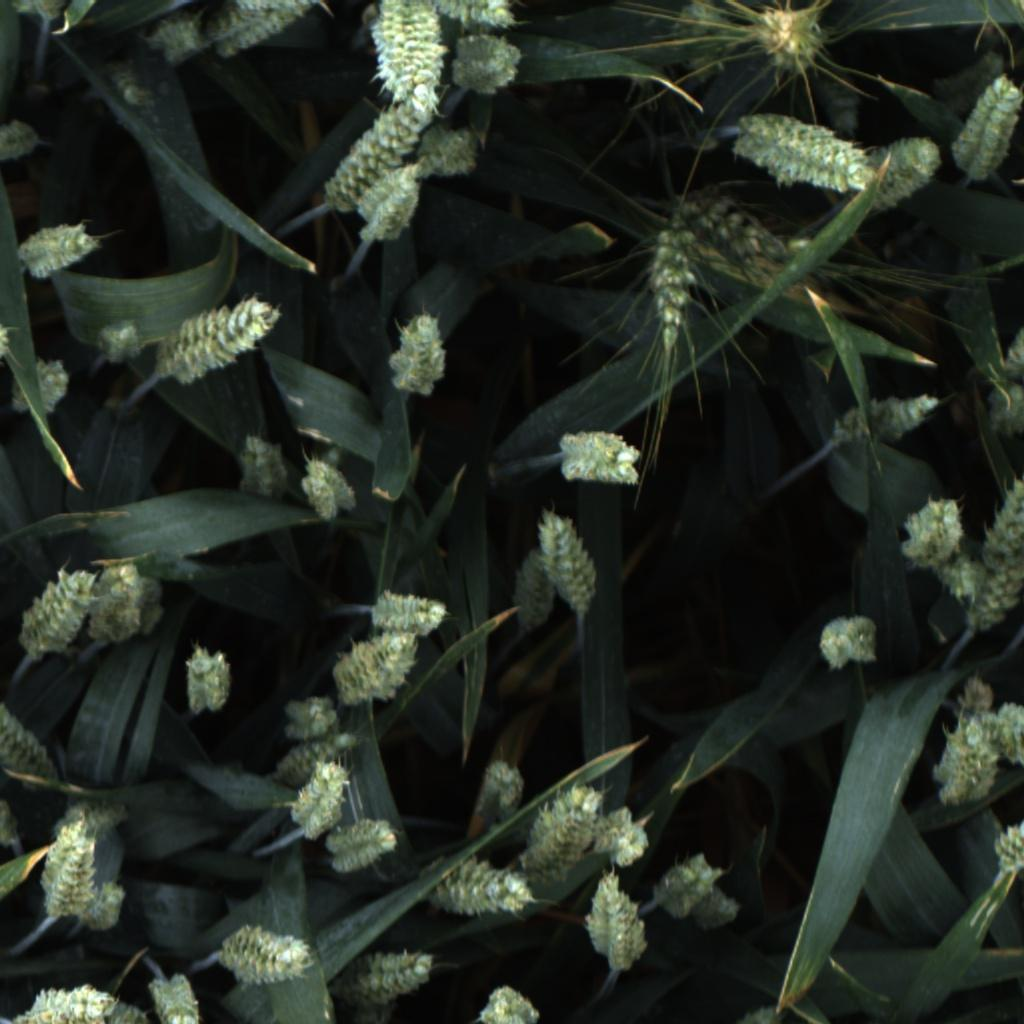0-0: (159, 284, 292, 386), (327, 86, 437, 208), (727, 113, 873, 199), (673, 188, 802, 279), (515, 772, 608, 888), (962, 464, 1024, 627), (825, 387, 943, 461), (653, 846, 747, 936), (950, 71, 1024, 184), (365, 2, 443, 109), (14, 562, 96, 663), (331, 626, 427, 711), (639, 226, 699, 356), (924, 711, 1003, 809), (202, 0, 330, 60), (86, 560, 170, 649), (550, 420, 648, 496), (535, 503, 597, 620), (331, 943, 435, 1011), (343, 166, 425, 251), (585, 871, 649, 978), (866, 129, 946, 213), (430, 861, 533, 925), (382, 307, 453, 399), (38, 809, 96, 921), (219, 921, 311, 990), (746, 5, 832, 78), (504, 536, 563, 635), (895, 494, 967, 572), (0, 689, 61, 781), (17, 216, 97, 284), (450, 32, 533, 97), (659, 0, 730, 73), (292, 449, 362, 523), (291, 761, 353, 840), (84, 58, 152, 130), (232, 422, 293, 502), (587, 797, 653, 870), (326, 815, 406, 875), (177, 642, 240, 718), (367, 582, 450, 637), (7, 984, 121, 1024), (953, 668, 1002, 761), (15, 354, 86, 417), (812, 613, 880, 678), (56, 792, 135, 846), (412, 121, 482, 181), (419, 0, 526, 38), (276, 733, 358, 782), (474, 753, 527, 822), (932, 551, 993, 609), (274, 689, 341, 739), (475, 977, 546, 1024), (983, 696, 1024, 777), (147, 972, 209, 1024), (91, 315, 147, 369), (155, 10, 207, 68), (971, 383, 1023, 437), (86, 873, 133, 932), (983, 809, 1024, 872), (84, 993, 159, 1024), (0, 119, 40, 169), (996, 319, 1024, 386), (0, 793, 25, 856)
